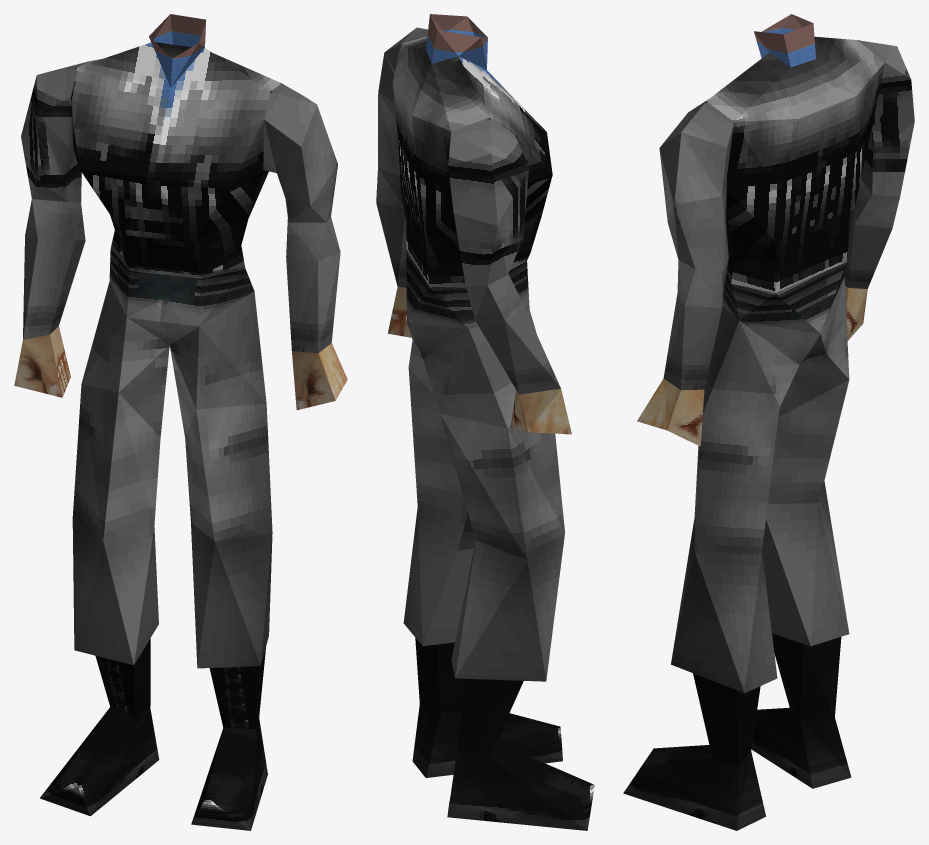
The model's file is train_guard_1.glb.
3 views of the same model, side by side, from view 1: azimuth 30°, elevation 25°; view 2: azimuth 150°, elevation 25°; view 3: azimuth 270°, elevation 25° (orthographic). The views are drawn at different scales.
Visible parts, largest first — view 1: Object; view 2: Object; view 3: Object.
Boxes of the visible parts, left/top/right/bottom form: Object: left=14, top=14, right=347, bottom=830; Object: left=376, top=14, right=594, bottom=830; Object: left=623, top=14, right=914, bottom=830.
Bounding box in the file's own units: 0.6417 × 1.83 × 0.6208.
Materials: 69 (69 with a texture image).
